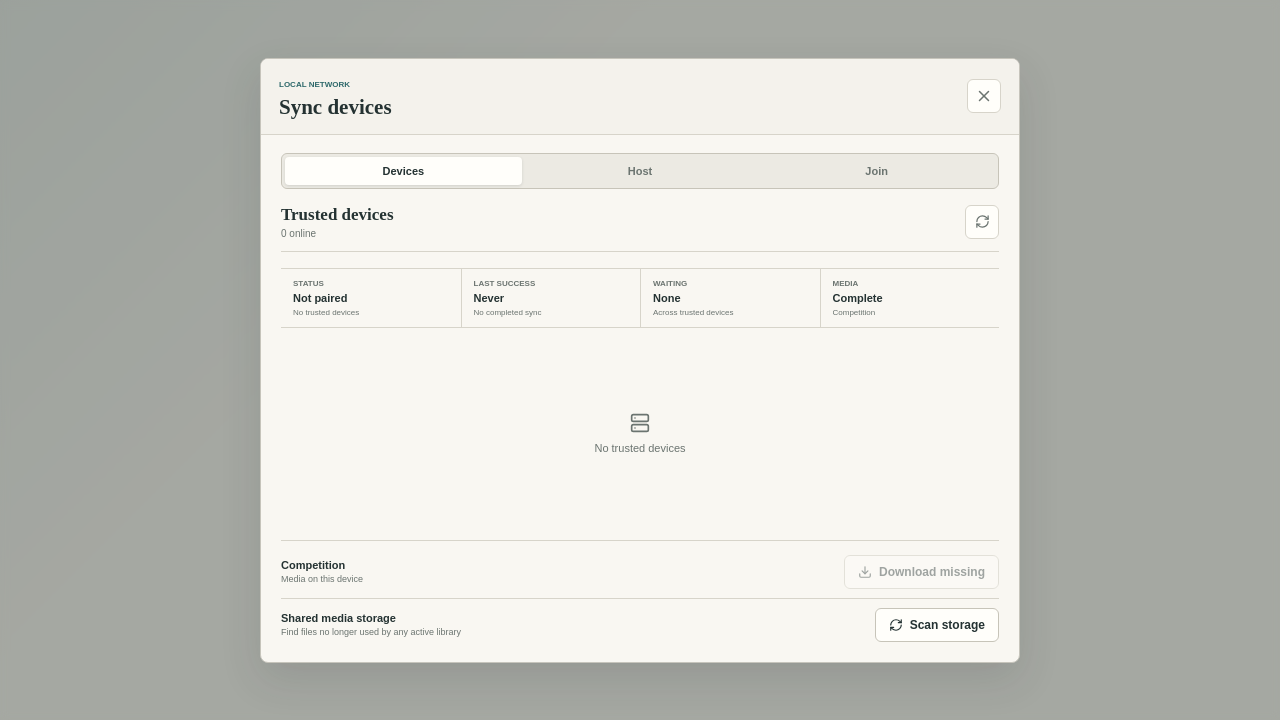
Scenario: sync dialog › loads a scanned Android QR code into the existing pairing flow
Step 1. Click the tab "Join" → (877, 170), box x1=758 y1=156 x2=995 y2=184
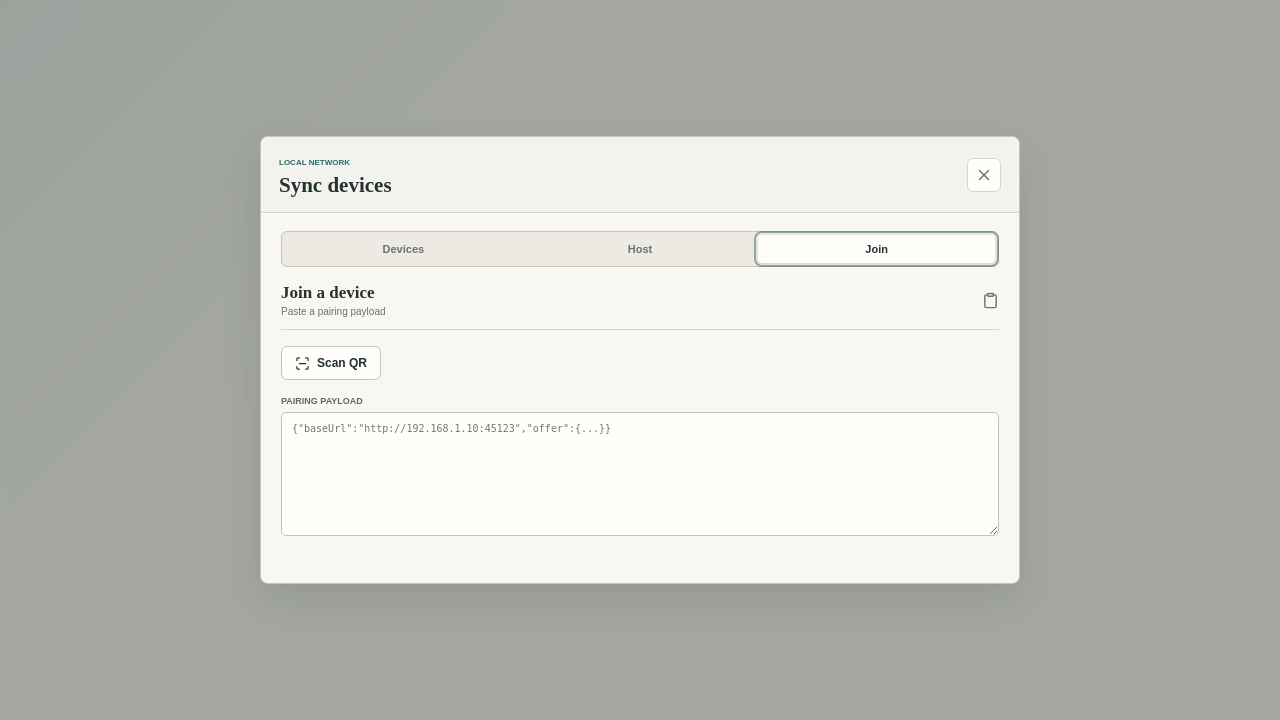
Step 2. Click the button "Scan QR" → (331, 363), box x1=281 y1=346 x2=381 y2=380
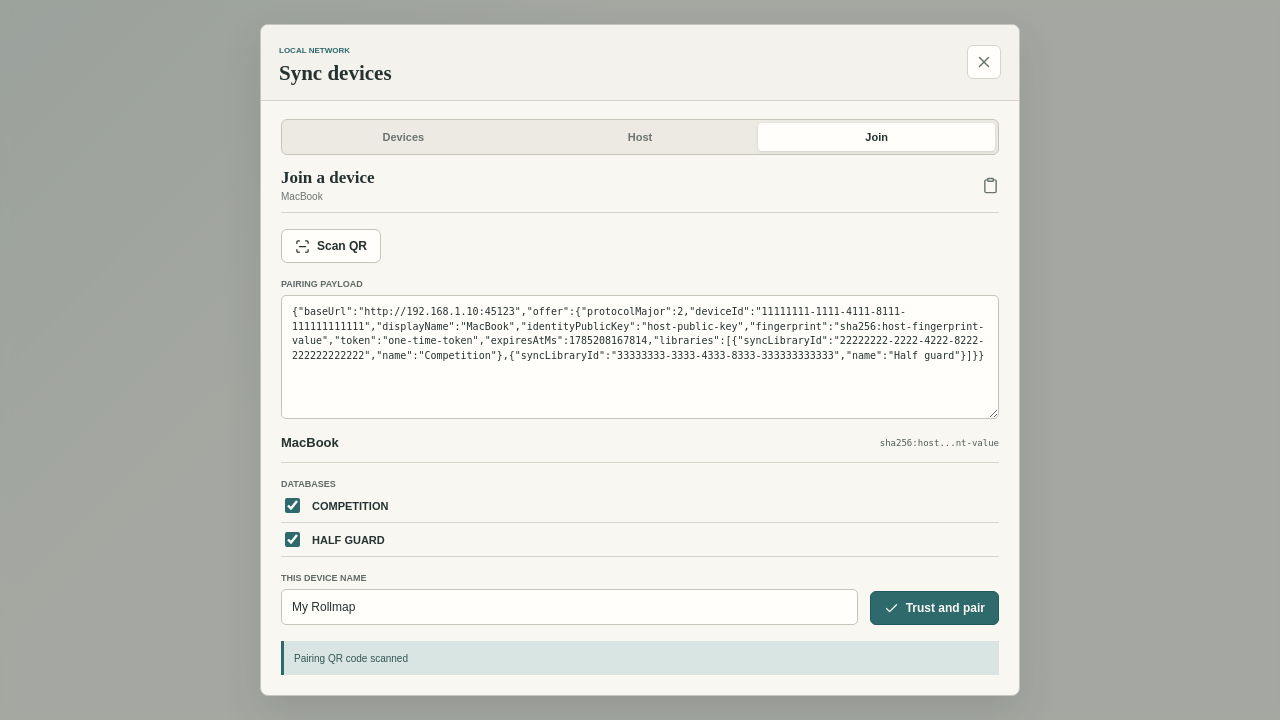
Check: the text "Pairing QR code scanned" is shown, box x1=294 y1=652 x2=408 y2=664
Check: the text "MacBook" below "Join a device" is shown, box x1=281 y1=191 x2=323 y2=202
Check: the checkbox labelled "Competition" is checked, box x1=285 y1=498 x2=300 y2=513
